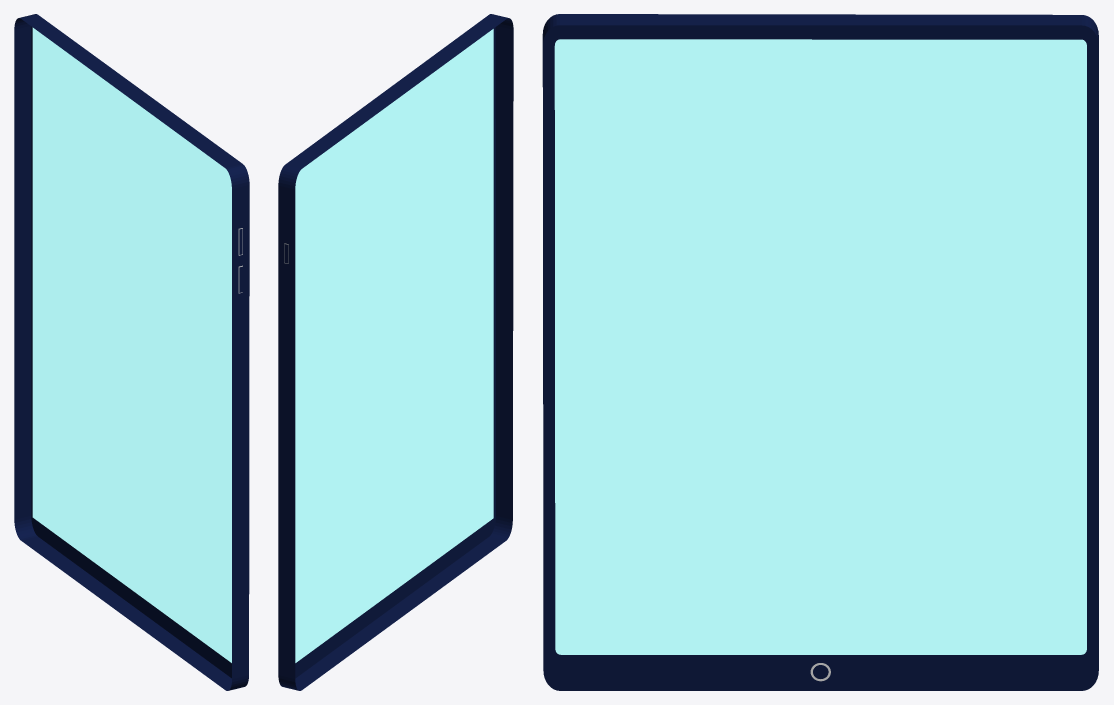
File: Tablet3 Model.fbx
3 views of the same model, side by side, from view 1: azimuth 30°, elevation 25°; view 2: azimuth 150°, elevation 25°; view 3: azimuth 270°, elevation 25° (orthographic). The views are drawn at different scales.
Visible parts, largest first — view 1: Cube.001, Cube; view 2: Cube.001, Cube; view 3: Cube.001, Cube.
Part boxes in pixels (left/top/right/bottom): Cube.001: left=32, top=27, right=231, bottom=662; Cube: left=14, top=14, right=249, bottom=690; Cube.001: left=295, top=29, right=493, bottom=662; Cube: left=278, top=14, right=513, bottom=690; Cube.001: left=554, top=39, right=1086, bottom=654; Cube: left=542, top=14, right=1098, bottom=690.
Bounding box in the file's own units: 11.9 × 334 × 254.
